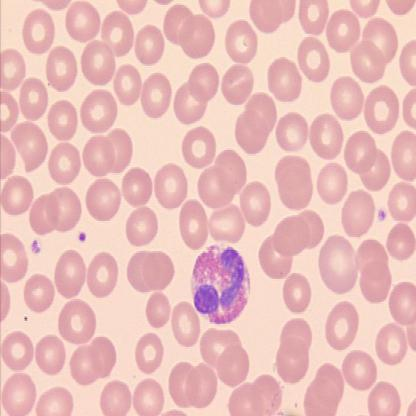Eosinophil: (186, 244, 250, 327)
